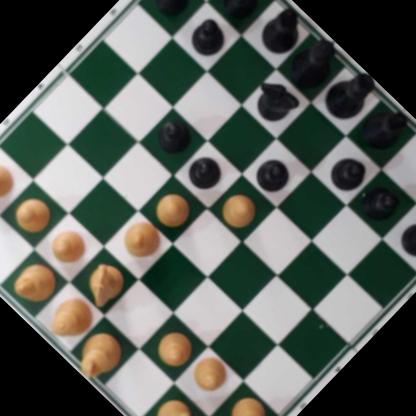black-bishop: (253, 0, 314, 61), (357, 96, 416, 157)
black-king: (316, 61, 382, 127)
black-knight: (247, 71, 303, 127), (214, 0, 274, 23)
black-pawn: (248, 149, 298, 199), (323, 146, 372, 195), (150, 110, 199, 159), (183, 11, 231, 60), (180, 147, 228, 195), (356, 177, 404, 225), (145, 0, 197, 21), (395, 213, 416, 263)
black-queen: (282, 30, 348, 96)
white-bishop: (9, 253, 64, 308), (117, 213, 168, 264)
white-king: (71, 322, 130, 381)
white-knight: (76, 255, 132, 311), (141, 389, 201, 416)
white-pawn: (151, 320, 200, 370), (44, 219, 93, 269), (184, 347, 234, 396), (9, 190, 57, 239), (151, 182, 199, 231), (216, 183, 264, 231), (223, 388, 274, 416), (0, 155, 21, 204)
white-queen: (41, 288, 101, 349)
